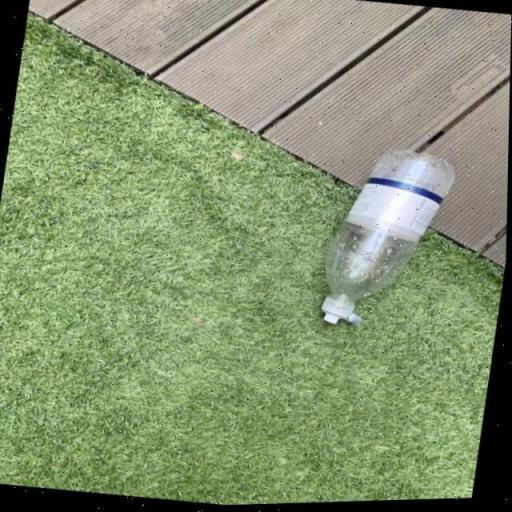plastic: (314, 142, 460, 340)
